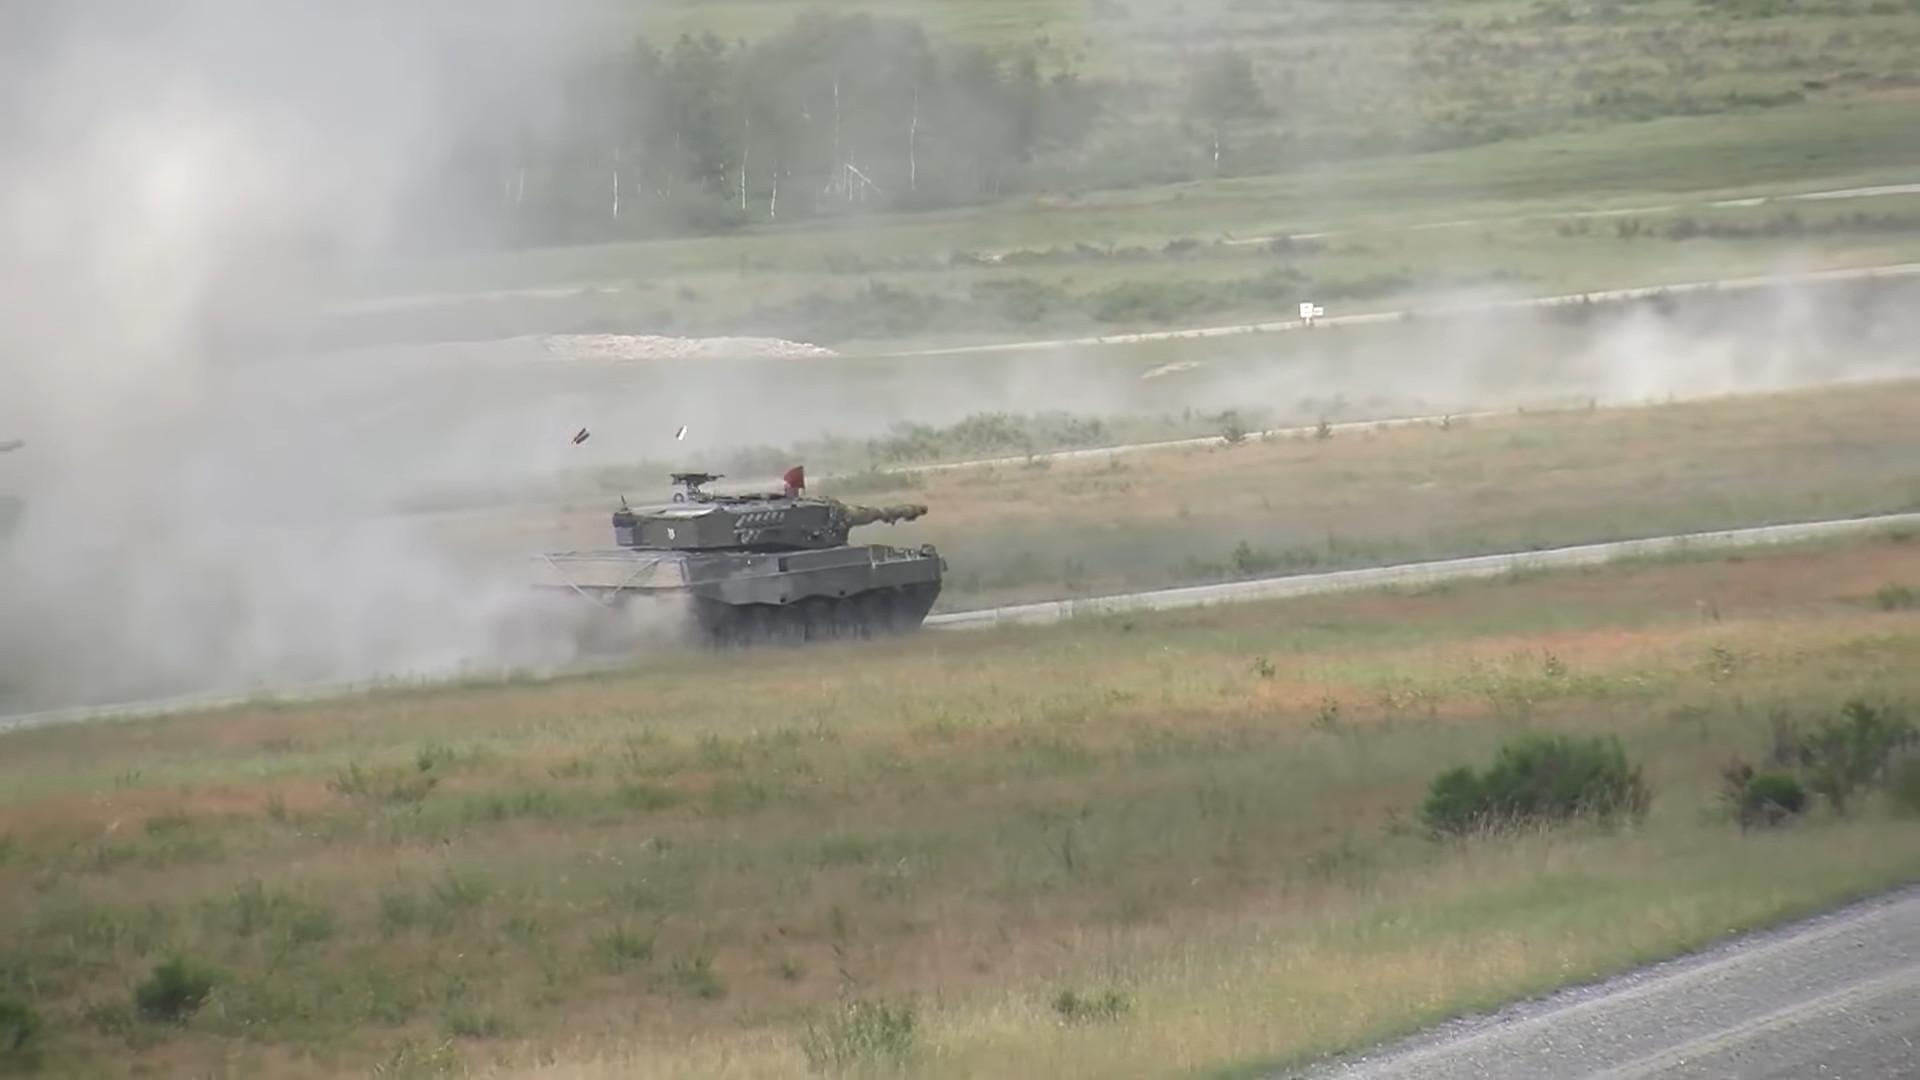tank: (531, 497, 942, 647)
